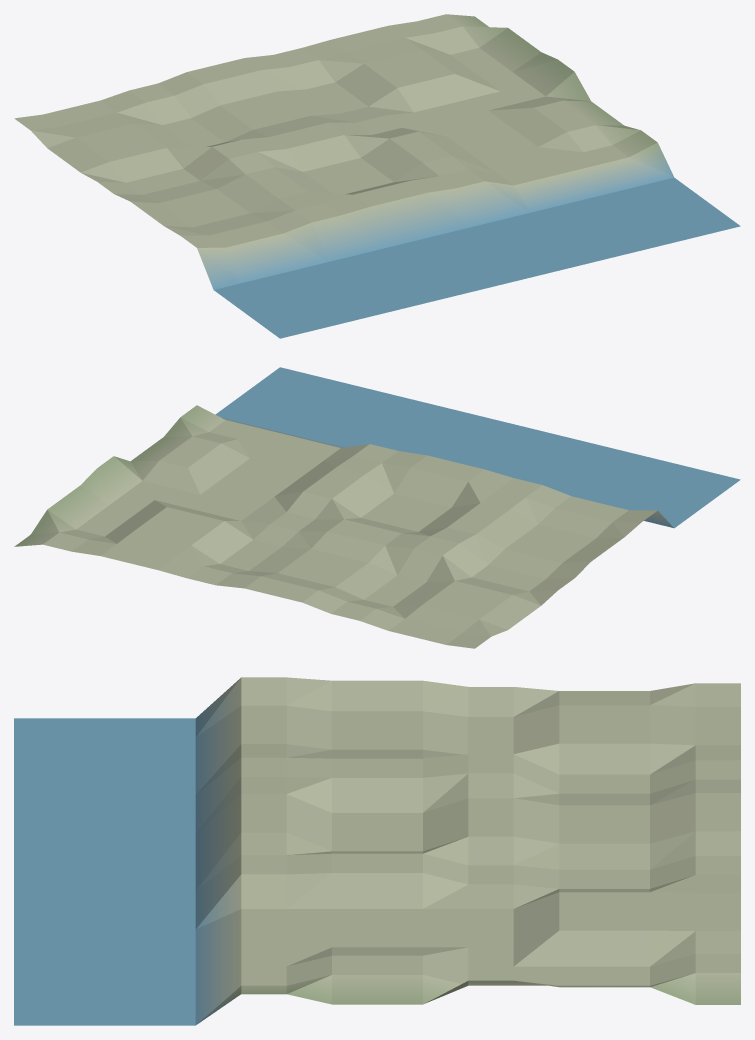
3 renders of one model, top to bottom at view 1: azimuth 30°, elevation 25°; view 2: azimuth 150°, elevation 25°; view 3: azimuth 270°, elevation 25°, orthographic. The views are drawn at different scales.
Bounding box in the file's own units: 32 × 2.18 × 32.
